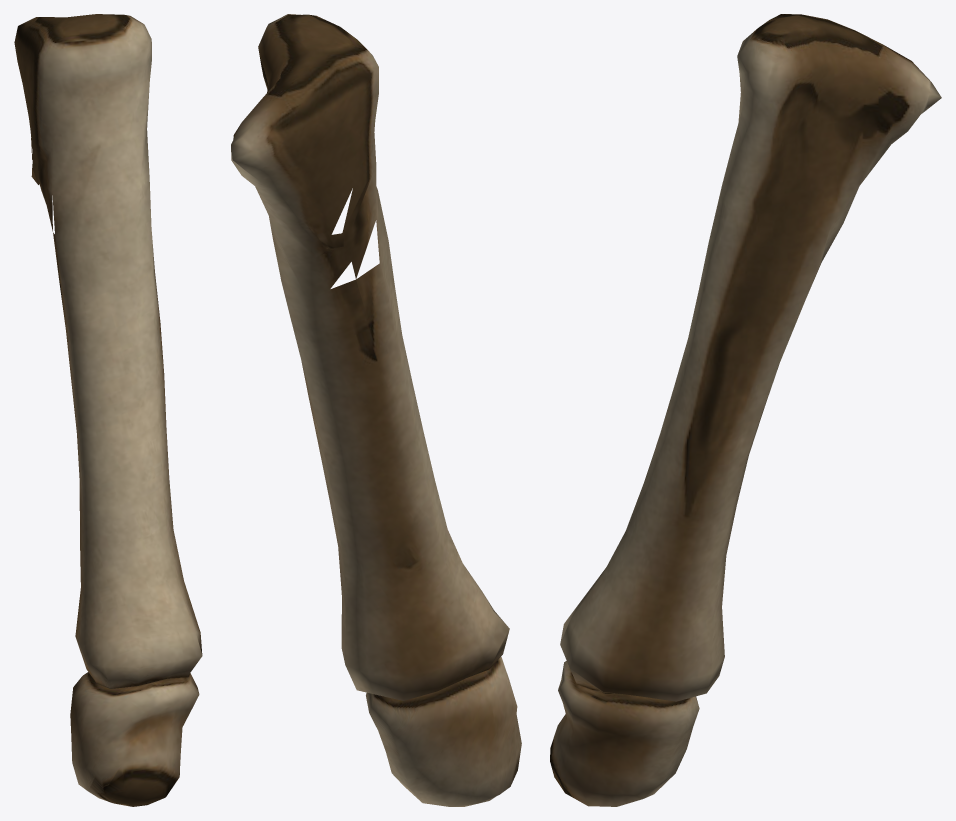
File: Metatarsal_III.glb
3 renders of one model, left to right at view 1: azimuth 30°, elevation 25°; view 2: azimuth 150°, elevation 25°; view 3: azimuth 270°, elevation 25°, orthographic. The views are drawn at different scales.
Visible parts, largest first — view 1: Metatarsal_III_Left1:Group34819; view 2: Metatarsal_III_Left1:Group34819; view 3: Metatarsal_III_Left1:Group34819.
Boxes of the visible parts, x1,y1,x2,y2 form: Metatarsal_III_Left1:Group34819: [14, 14, 202, 806]; Metatarsal_III_Left1:Group34819: [231, 14, 521, 806]; Metatarsal_III_Left1:Group34819: [550, 14, 941, 806].
Size of the model in its own units: 12.49 by 60.12 by 26.72.
1 material, 1 textured.
